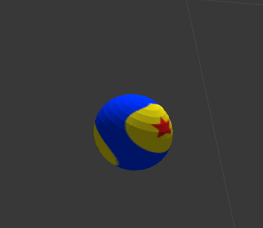toy story ball: (93, 94, 173, 171)
